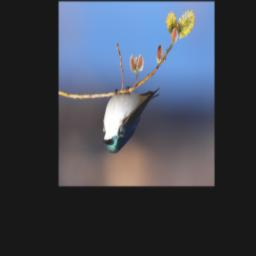Swallow: (100, 88, 161, 154)
